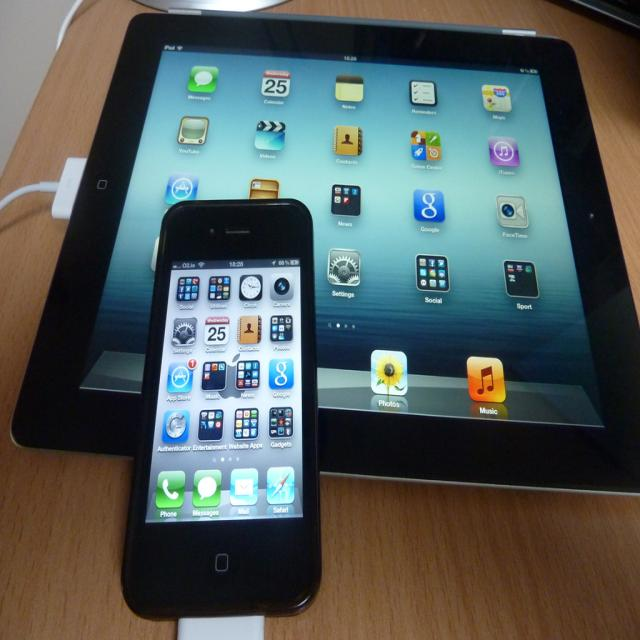Mobile-phone: (120, 199, 322, 618)
